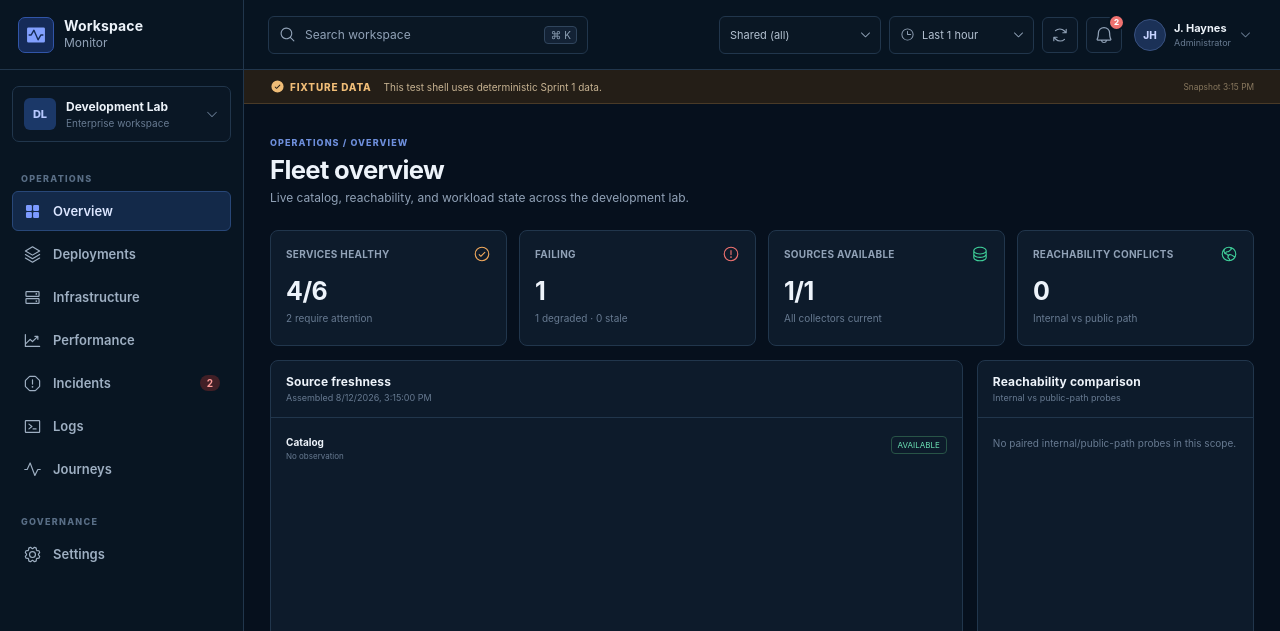
Test: enterprise application shell › navigates between primary routes without a backend
Expected: the heading "Fleet overview" is shown, [270, 154, 444, 185]
Click the link "Deployments": (79, 254) [23, 244, 136, 264]
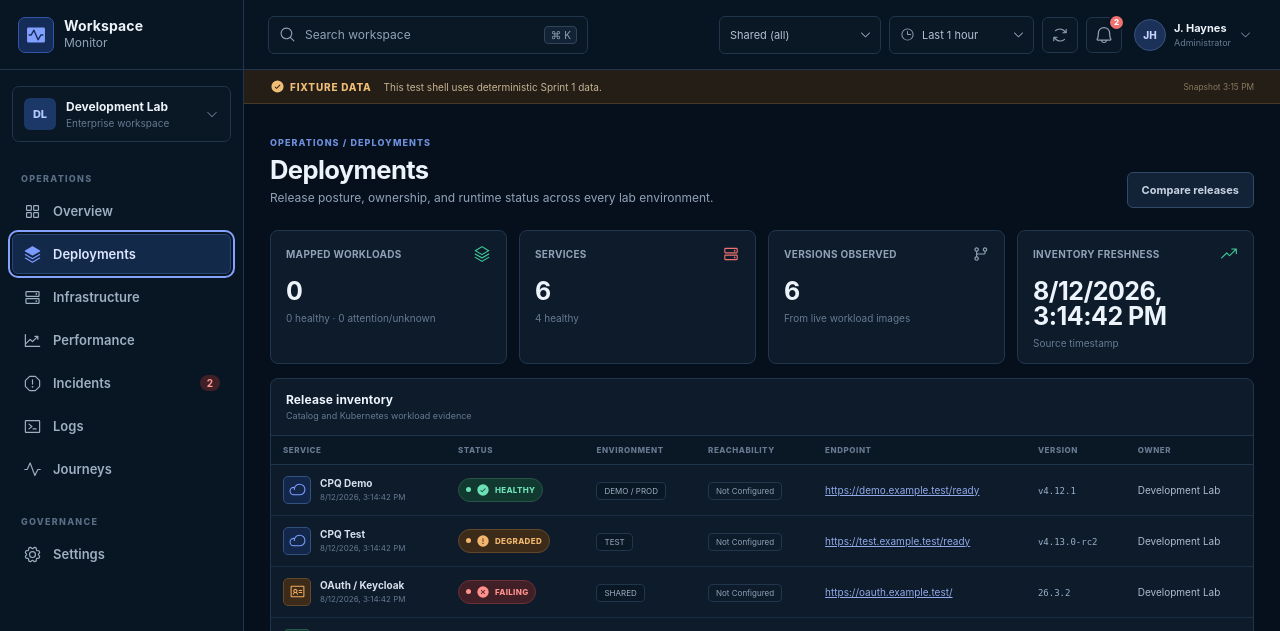
Expected: the heading "Deployments" is shown, [270, 154, 428, 185]
Click the link "Performance": (79, 340) [23, 330, 135, 350]
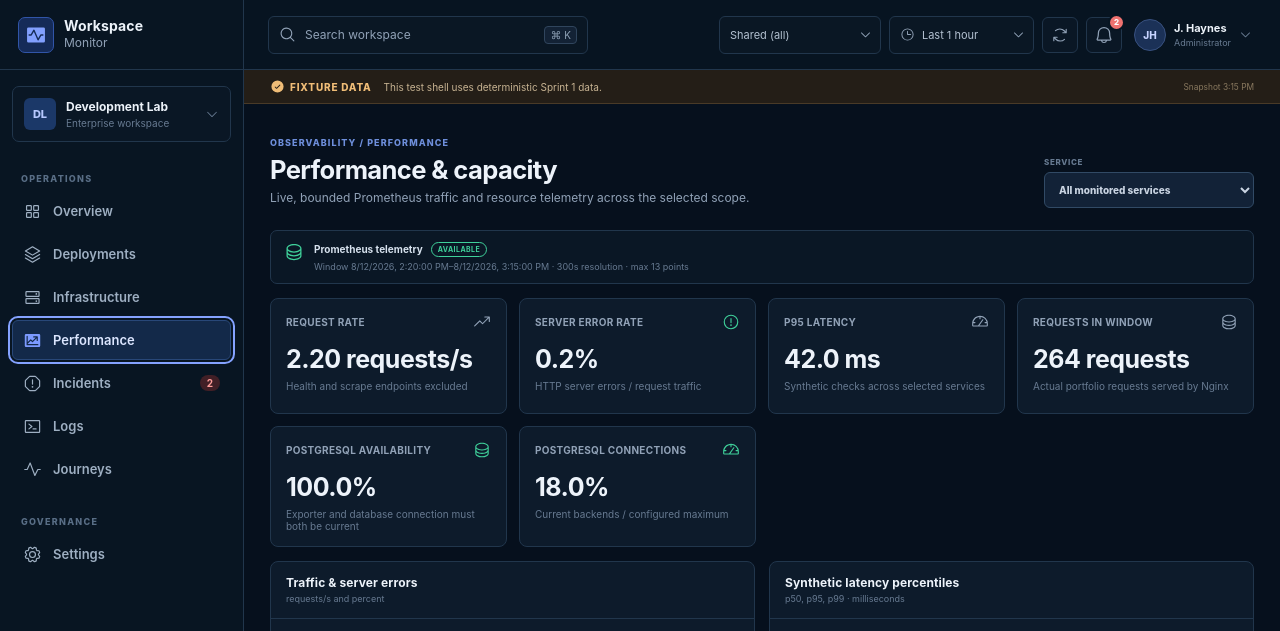
Expected: the heading "Performance & capacity" is shown, [270, 154, 557, 185]
